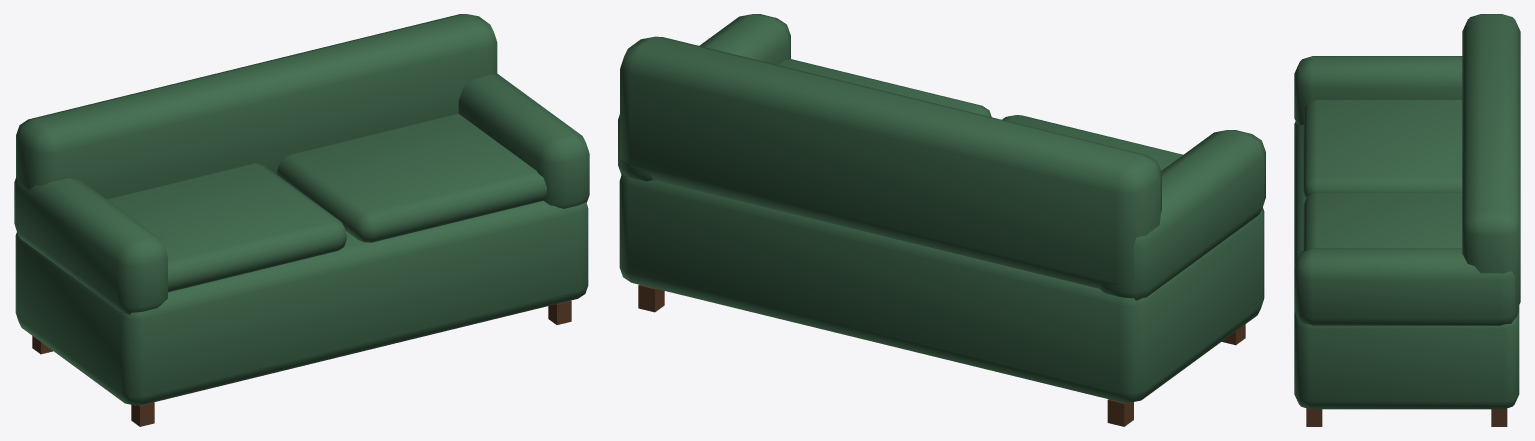
The model's file is couch.gltf.
3 views of the same model, side by side, from view 1: azimuth 30°, elevation 25°; view 2: azimuth 150°, elevation 25°; view 3: azimuth 270°, elevation 25° (orthographic). The views are drawn at different scales.
Visible parts, largest first — view 1: couch_mesh; view 2: couch_mesh; view 3: couch_mesh.
Boxes of the visible parts, bbox=[...] form: couch_mesh: bbox=[14, 14, 589, 426]; couch_mesh: bbox=[618, 14, 1265, 426]; couch_mesh: bbox=[1294, 14, 1520, 426].
Size of the model in its own units: 1.92 by 0.9 by 0.855.
